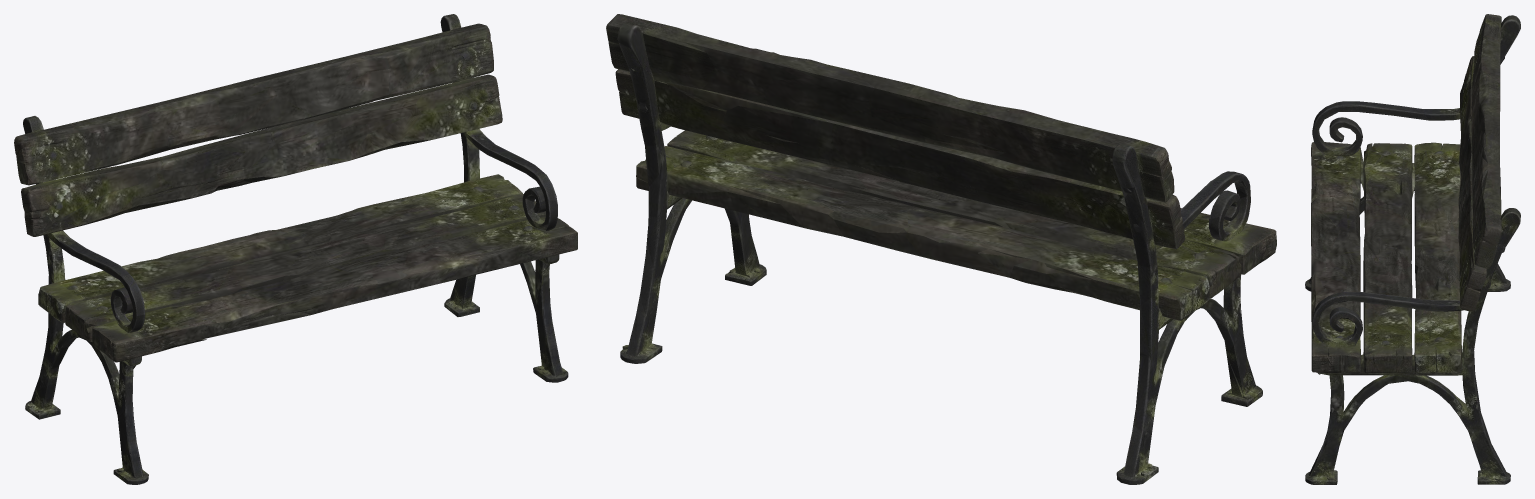
Rendered from sp_m_bench.glb.
3 views of the same model, side by side, from view 1: azimuth 30°, elevation 25°; view 2: azimuth 150°, elevation 25°; view 3: azimuth 270°, elevation 25° (orthographic). The views are drawn at different scales.
Parts seen in each view (by area): view 1: Mesh_0; view 2: Mesh_0; view 3: Mesh_0.
Part boxes in pixels (x1,y1,x2,y2): Mesh_0: (14,14,577,484); Mesh_0: (606,14,1276,484); Mesh_0: (1305,14,1520,484).
Size of the model in its own units: 1.9 by 1.11 by 0.8027.
Materials: 1 (1 with a texture image).
